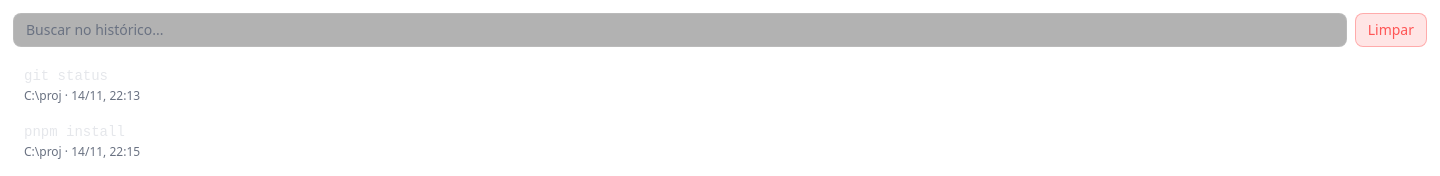
History › limpa o histórico e persiste vazio
Expected: the text "git status" is shown, [24, 68, 108, 84]
Click the button with aria-label "limpar histórico" at (1391, 30), box [1355, 13, 1427, 47]
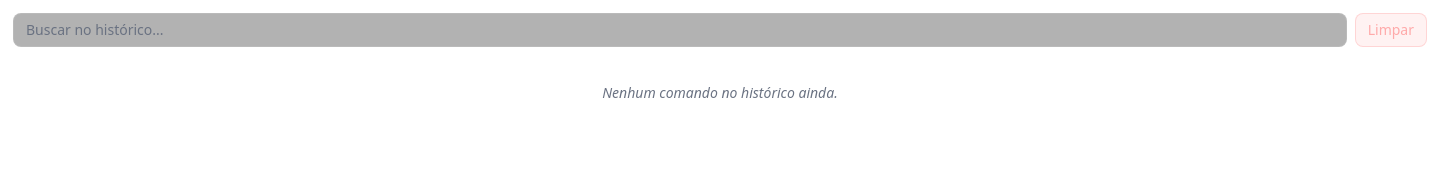
Expected: the button "git status" is gone
